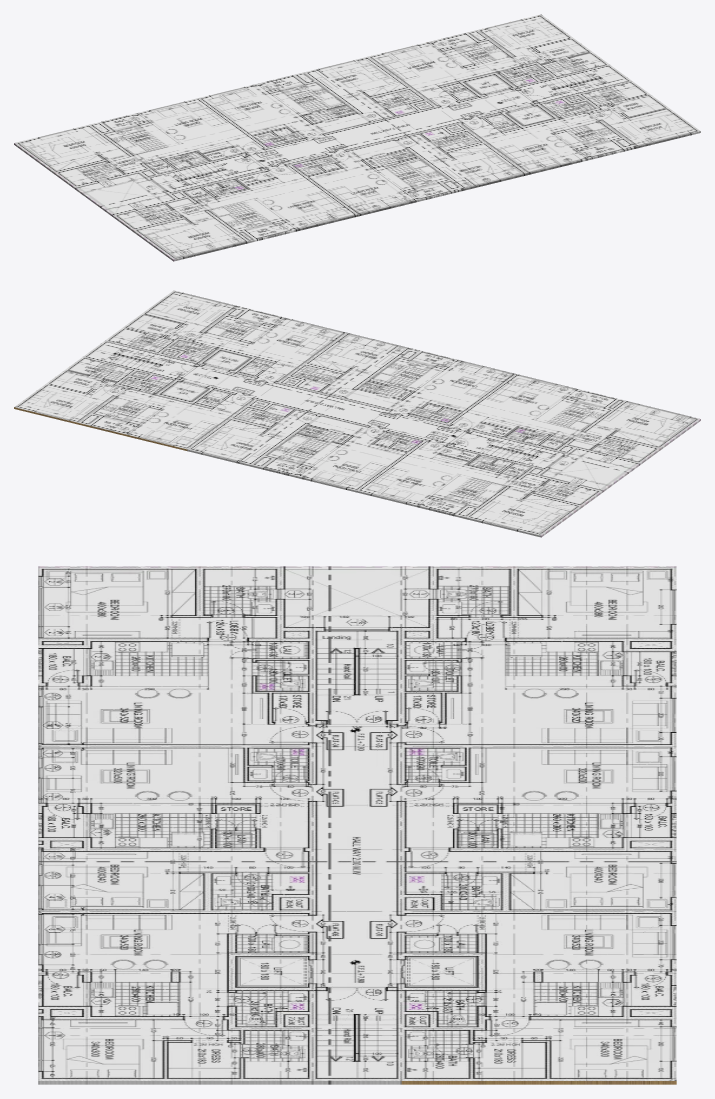
File: Fifth floor plans.compressed.glb
3 renders of one model, top to bottom at view 1: azimuth 30°, elevation 25°; view 2: azimuth 150°, elevation 25°; view 3: azimuth 270°, elevation 25°, orthographic. The views are drawn at different scales.
Parts seen in each view (by area): view 1: HALL WAY.005; view 2: HALL WAY.005, flat-01.005; view 3: HALL WAY.005, flat-01.005.
Boxes of the visible parts, x1=… form: HALL WAY.005: x1=14, y1=14, x2=700, y2=261; HALL WAY.005: x1=14, y1=290, x2=700, y2=537; flat-01.005: x1=14, y1=407, x2=187, y2=450; HALL WAY.005: x1=38, y1=566, x2=676, y2=1084; flat-01.005: x1=401, y1=1081, x2=676, y2=1084.
Bounding box in the file's own units: 10.9 × 0.0341 × 5.71.
2 materials, 2 textured.
